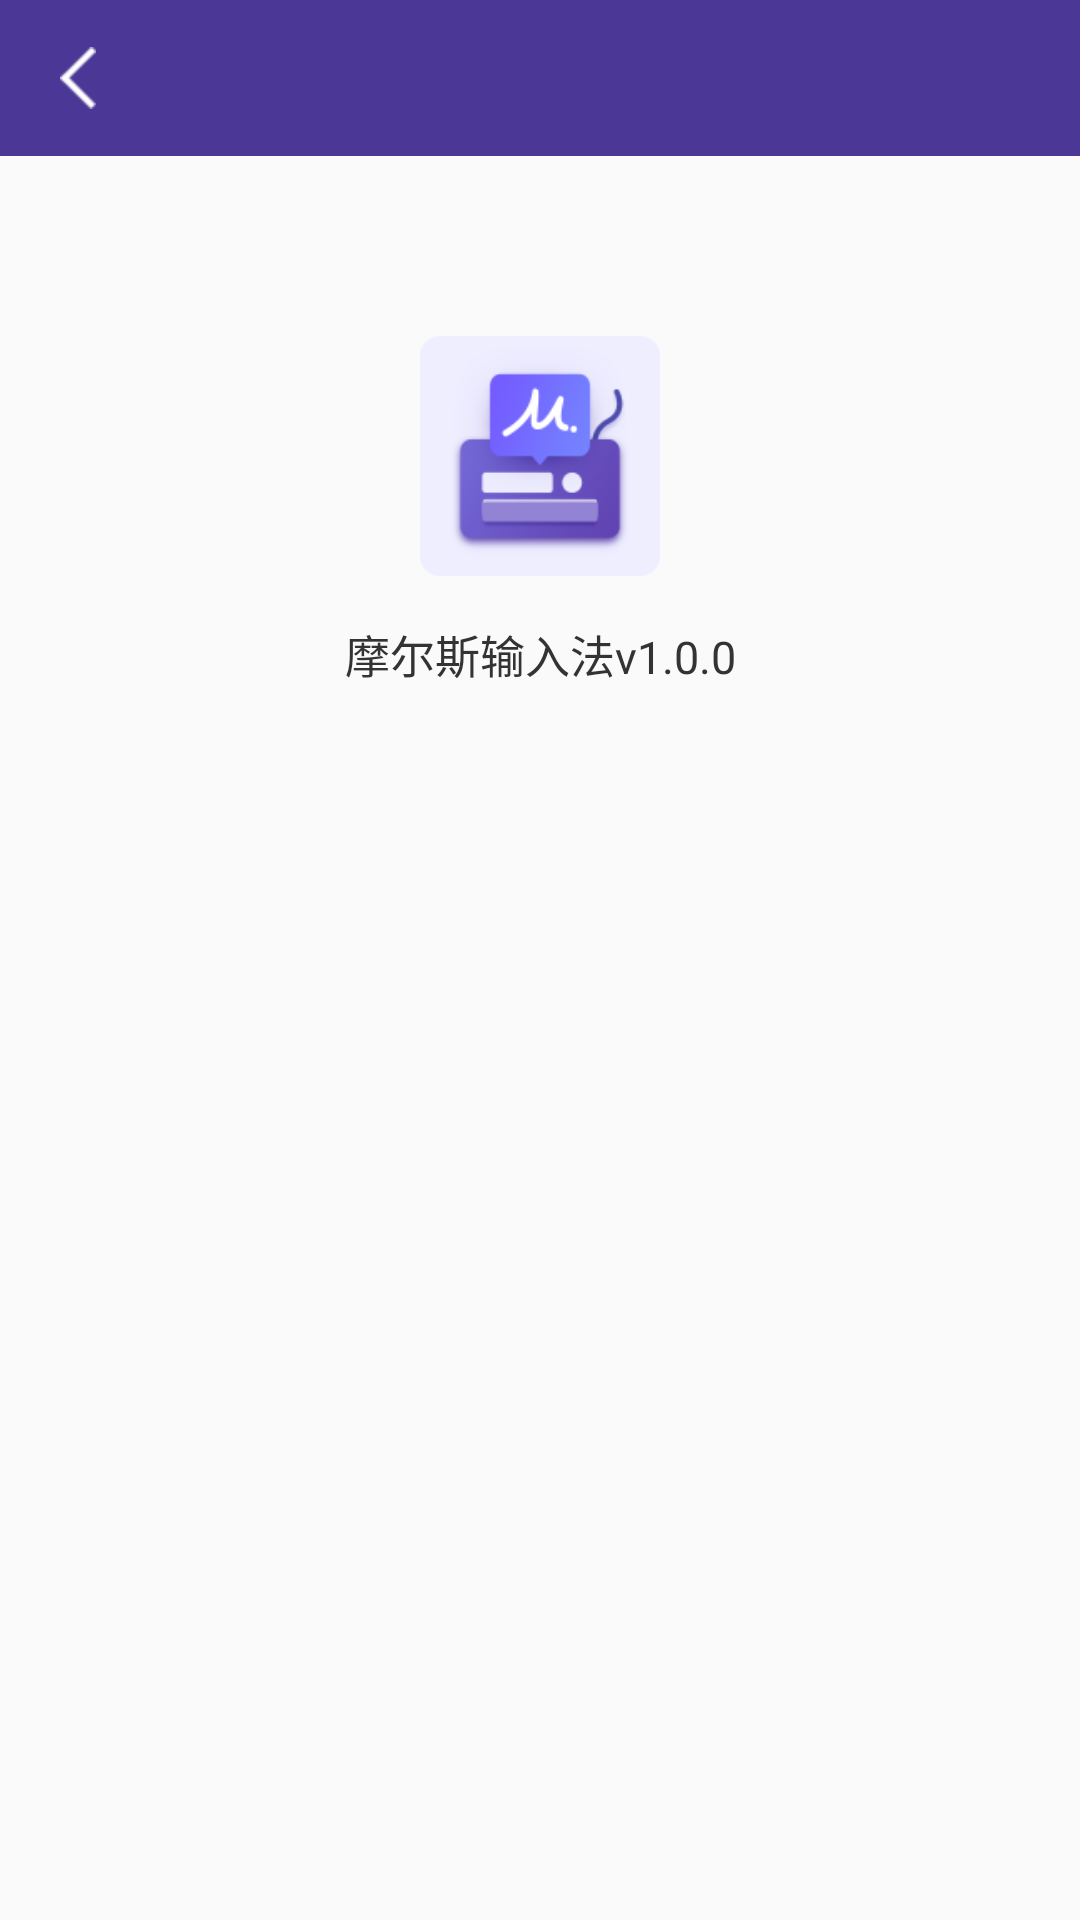

Named icons in this screenshot (1080×1920) and their centers, [x,y]:
title back: [78,78]
